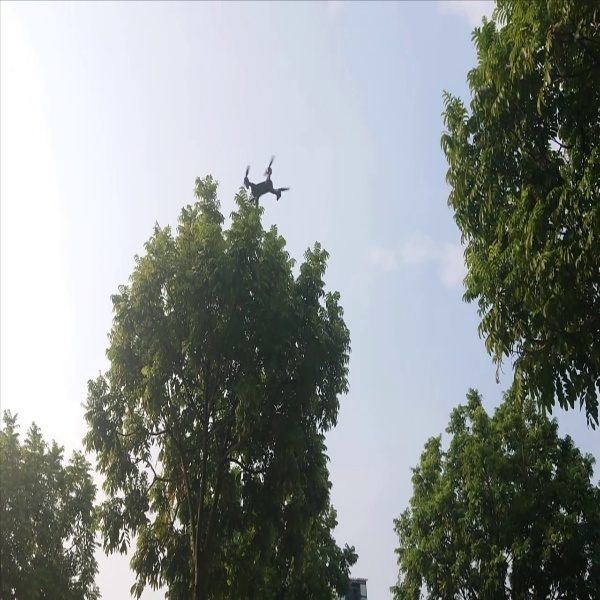drone: (236, 149, 292, 221)
